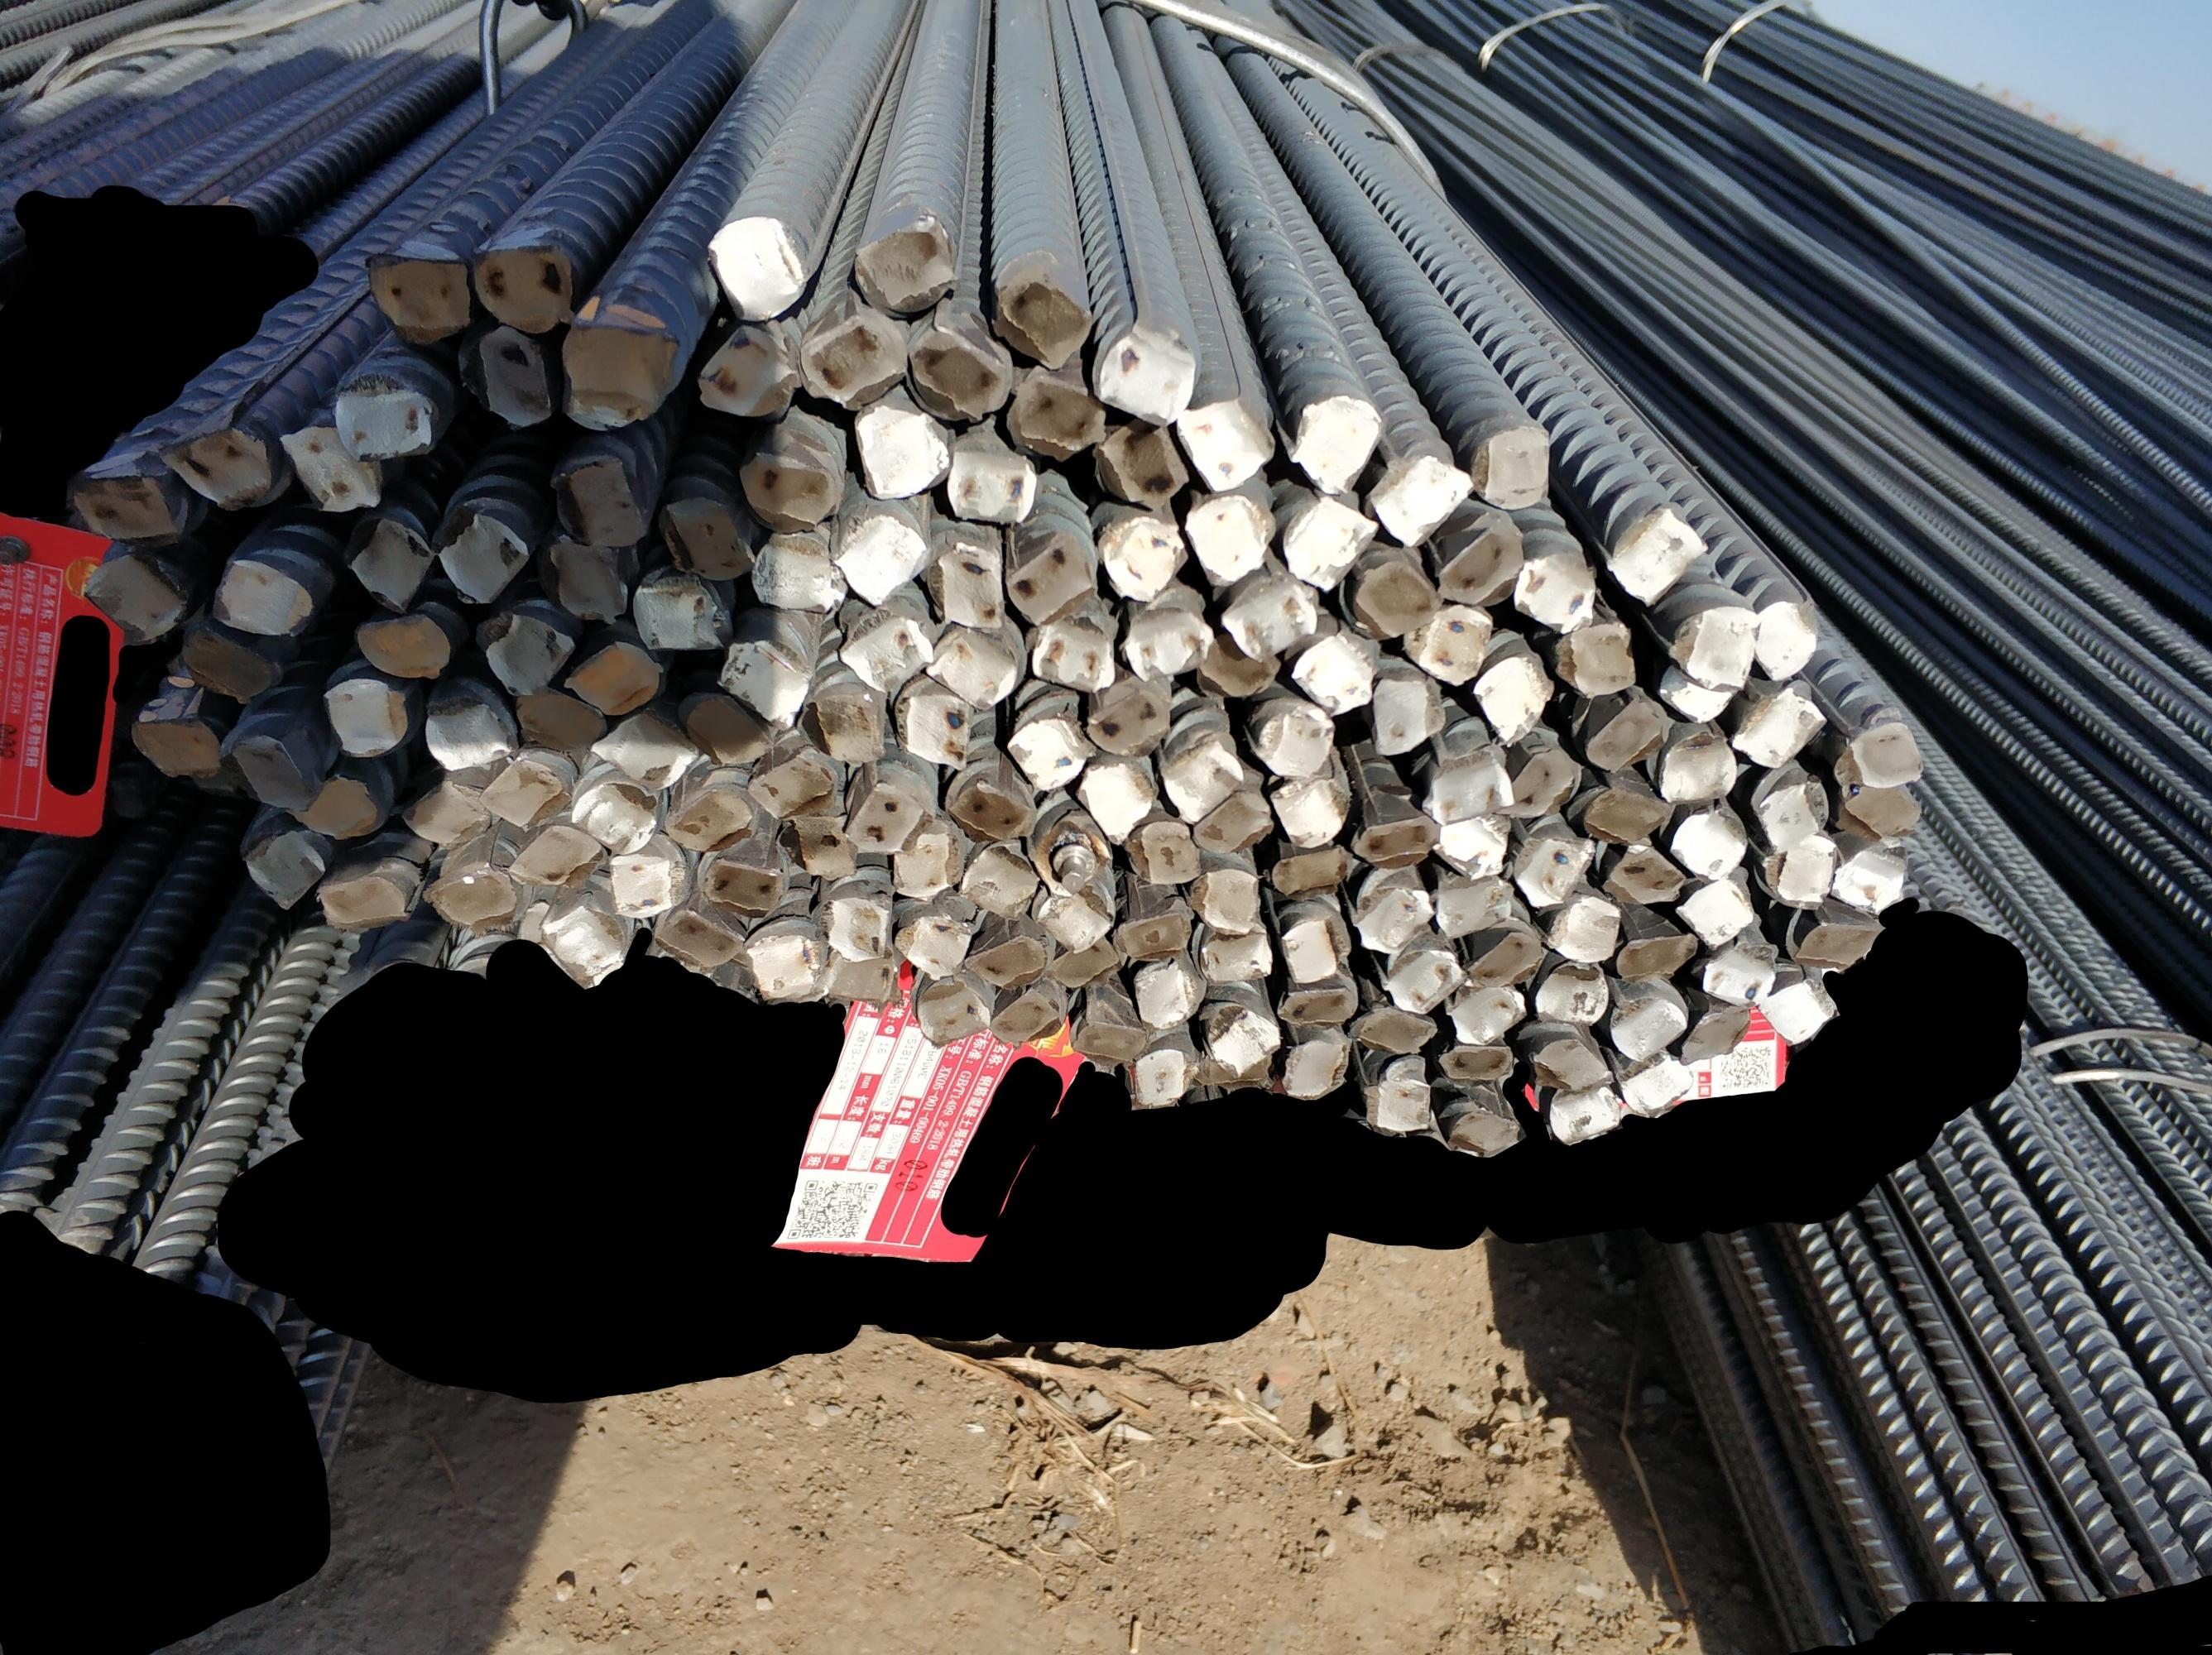bar: (554, 315, 678, 433), (850, 212, 961, 320), (801, 306, 911, 414), (360, 249, 474, 351), (702, 210, 806, 322), (1168, 393, 1279, 494), (1604, 502, 1708, 608), (160, 422, 278, 515), (905, 325, 1011, 426), (1095, 320, 1201, 421), (328, 374, 438, 469), (697, 323, 799, 424), (82, 555, 189, 648), (1279, 495, 1380, 595), (1003, 528, 1100, 628), (280, 421, 381, 516), (853, 398, 949, 499), (992, 275, 1095, 369), (1289, 391, 1381, 495), (829, 509, 928, 605), (712, 636, 811, 730), (1373, 455, 1472, 549), (473, 608, 575, 699), (469, 322, 553, 431), (653, 492, 754, 582), (546, 455, 646, 546), (1006, 370, 1107, 461), (1348, 548, 1446, 640), (1220, 568, 1319, 659), (473, 240, 573, 329), (176, 624, 281, 708), (591, 708, 697, 791), (923, 619, 1018, 711), (1091, 419, 1189, 509), (1401, 598, 1498, 688), (210, 556, 315, 638), (436, 513, 528, 605), (1095, 508, 1183, 603), (749, 527, 848, 612), (1470, 647, 1553, 748), (836, 612, 938, 694), (1666, 602, 1760, 690), (316, 675, 412, 761), (71, 468, 179, 544), (738, 447, 839, 528), (926, 530, 1008, 631), (1027, 810, 1116, 902), (1731, 678, 1823, 767), (632, 568, 726, 655), (1185, 494, 1272, 588), (1432, 520, 1526, 607), (1421, 735, 1515, 822), (944, 445, 1039, 528), (563, 636, 660, 718), (349, 518, 434, 610), (1512, 544, 1597, 636), (1472, 419, 1555, 513), (229, 725, 320, 810), (547, 539, 632, 629), (1242, 697, 1336, 779), (1159, 739, 1244, 827), (1364, 669, 1447, 760), (502, 821, 601, 895), (238, 827, 325, 913), (540, 895, 624, 984), (740, 916, 824, 1005), (1288, 631, 1376, 715), (886, 814, 966, 906), (1123, 602, 1215, 681), (1831, 713, 1924, 793), (421, 690, 514, 768), (1201, 998, 1284, 1085), (895, 681, 975, 772), (474, 753, 566, 831), (650, 897, 745, 972), (1023, 621, 1119, 695), (806, 685, 890, 770), (1084, 676, 1171, 758), (1079, 756, 1159, 845), (681, 694, 773, 770), (283, 770, 389, 836), (130, 709, 226, 782), (957, 834, 1041, 918), (608, 833, 690, 918), (1512, 827, 1597, 909), (570, 775, 659, 854), (749, 741, 838, 819), (844, 779, 937, 854), (1008, 711, 1089, 794), (421, 859, 516, 930), (1581, 694, 1666, 774), (1656, 728, 1741, 808), (697, 841, 784, 920), (349, 612, 452, 678), (1027, 876, 1117, 951), (1748, 593, 1823, 683), (511, 688, 603, 761), (1129, 949, 1211, 1031), (810, 885, 895, 961), (1347, 881, 1435, 954), (893, 901, 971, 982), (1501, 742, 1580, 824), (1831, 836, 1908, 920), (401, 775, 492, 845), (1559, 619, 1639, 697), (818, 937, 902, 1012), (775, 810, 860, 883), (1267, 775, 1354, 847), (1194, 635, 1282, 704), (1428, 871, 1517, 940), (1670, 807, 1753, 880), (1753, 768, 1826, 852), (1578, 782, 1672, 847), (316, 866, 412, 928), (1764, 831, 1840, 909), (914, 972, 994, 1047), (1607, 991, 1689, 1064), (1757, 975, 1838, 1048), (1460, 920, 1546, 987), (1376, 946, 1465, 1012), (1359, 1062, 1437, 1137), (1675, 878, 1757, 949), (1350, 808, 1440, 873), (667, 781, 752, 848), (949, 770, 1034, 838), (1545, 892, 1623, 965), (1183, 864, 1265, 934), (1190, 789, 1275, 855), (1599, 841, 1684, 907), (1835, 775, 1922, 840), (1124, 817, 1202, 888), (1533, 958, 1611, 1029), (1430, 810, 1512, 878), (1654, 661, 1739, 725), (1446, 982, 1529, 1047), (1274, 1033, 1348, 1104), (1791, 916, 1887, 972), (1107, 906, 1195, 965), (961, 930, 1046, 991), (987, 982, 1063, 1048), (1546, 1083, 1623, 1149), (1699, 940, 1776, 1007), (1063, 1010, 1154, 1066), (1279, 913, 1347, 986), (1043, 932, 1119, 996), (1347, 1003, 1440, 1055), (1531, 1033, 1613, 1092), (1618, 1052, 1691, 1116), (1447, 1099, 1524, 1158), (1197, 928, 1277, 984), (1680, 1001, 1750, 1064), (1270, 845, 1352, 897), (1618, 932, 1696, 984), (1274, 982, 1359, 1029), (1440, 1038, 1519, 1087), (1129, 1041, 1189, 1106)
